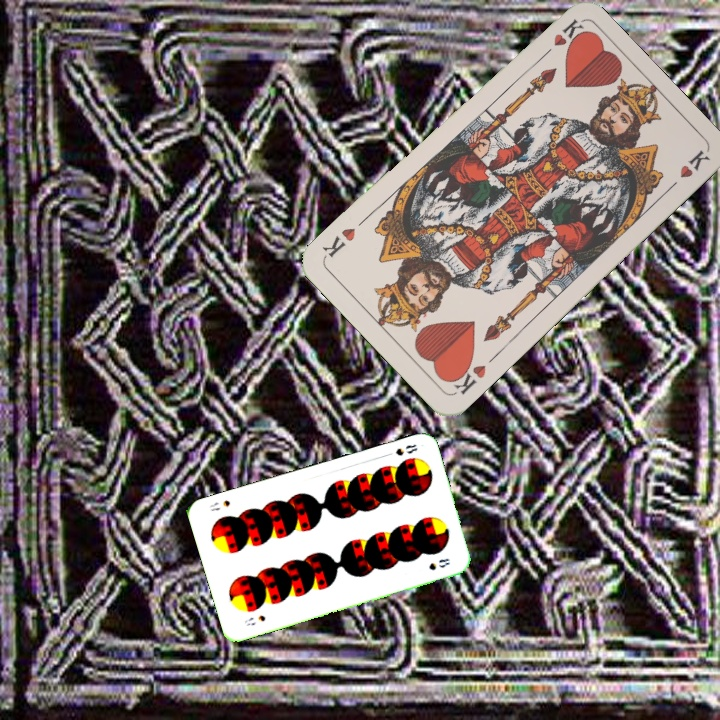HK: (445, 351, 498, 398), (534, 15, 584, 64)
S8: (391, 440, 420, 458), (240, 611, 268, 628)
